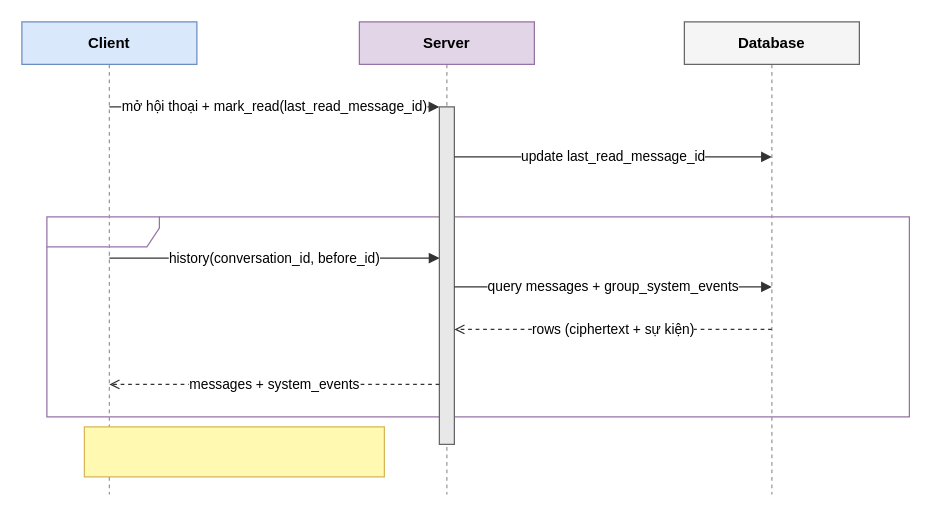
The diagram is 931 pixels wide and 518 high, and some of its shapes have lost their labels. Each missing label, with the box of its shape:
giải mã + gộp cache; xếp system event; giữ vị trí cuộn: (83, 426, 384, 477)
Tải lịch sử: (46, 216, 909, 417)
